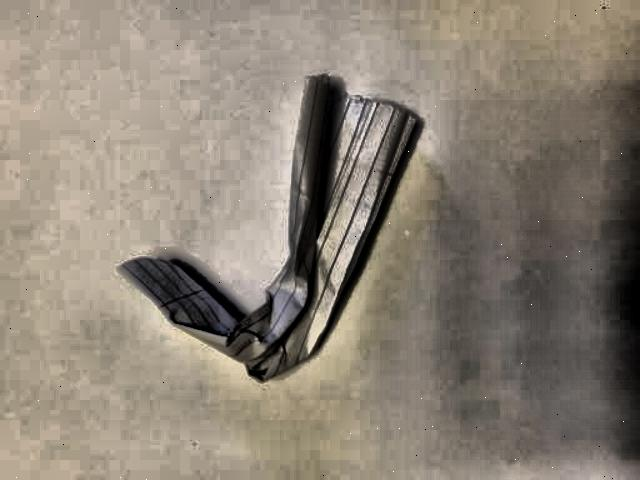Paper: (118, 66, 425, 402)
